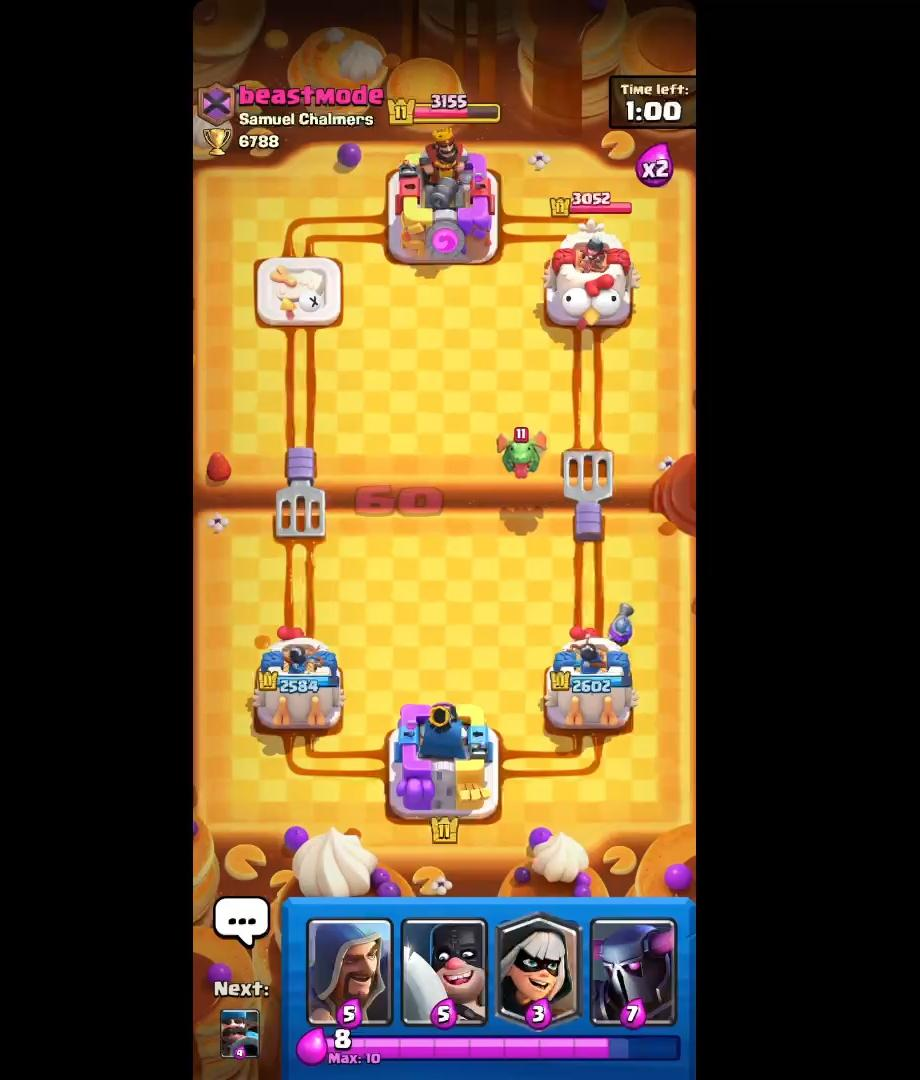Baby Dragon: (491, 420, 561, 487)
